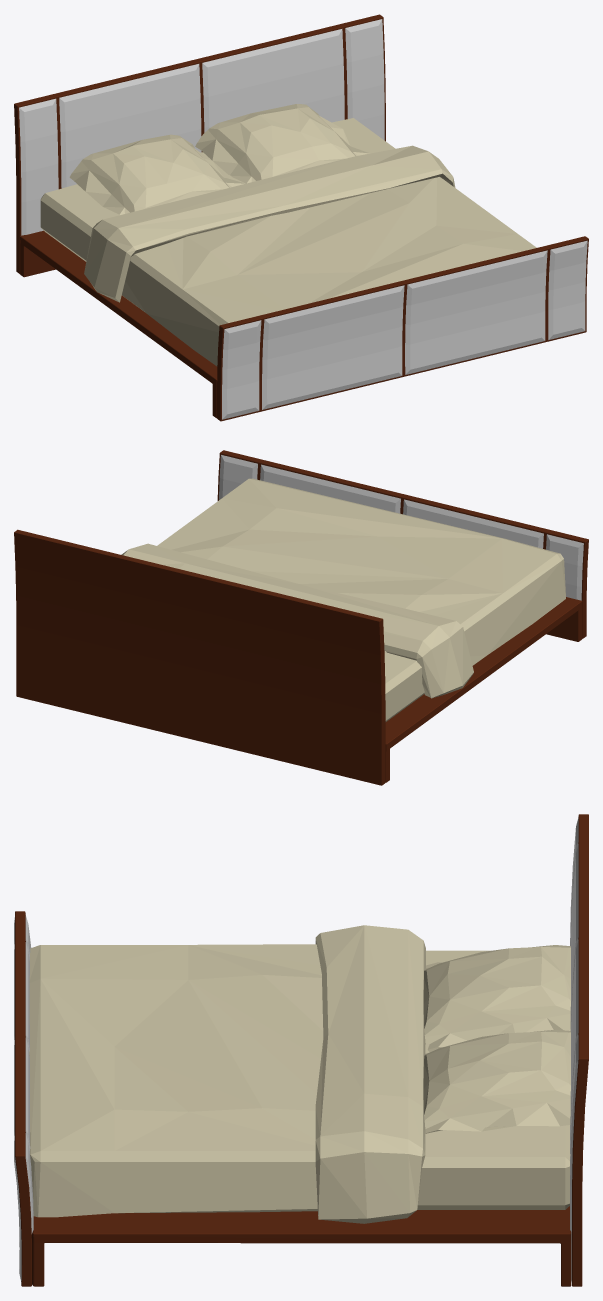
The picture shows the model from 3 angles, top to bottom: view 1: azimuth 30°, elevation 25°; view 2: azimuth 150°, elevation 25°; view 3: azimuth 270°, elevation 25°; orthographic projection. The views are drawn at different scales.
Size of the model in its own units: 86.3 by 37.37 by 85.37.
